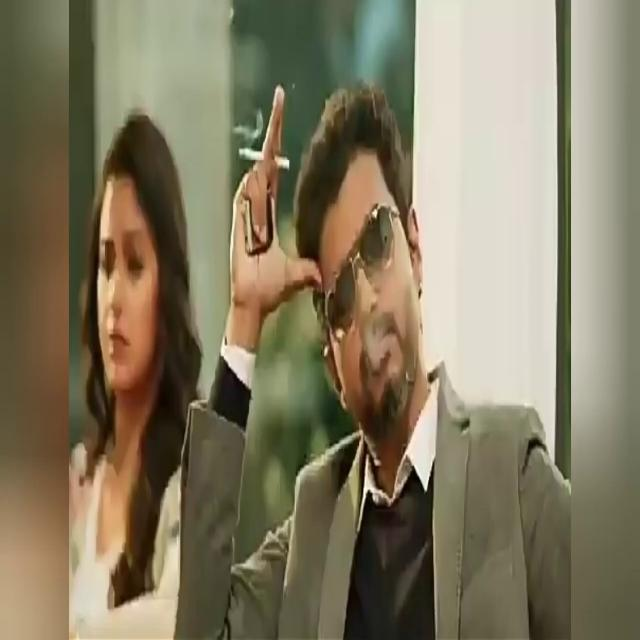smoking: (247, 118, 300, 251)
